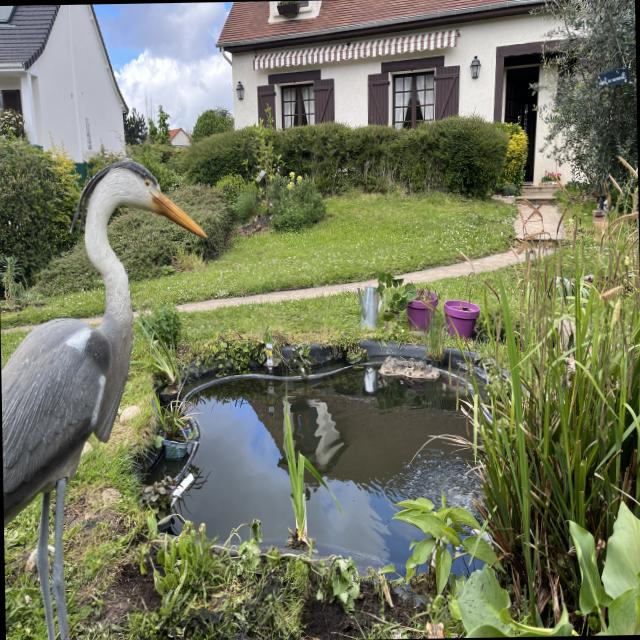Heron: (0, 147, 221, 640)
